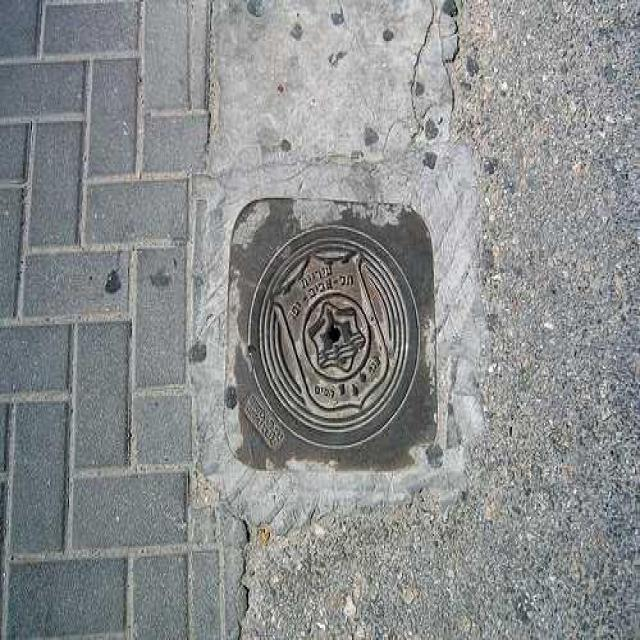manhole: (230, 200, 440, 474)
